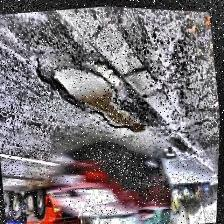pothole: (44, 51, 154, 147)
